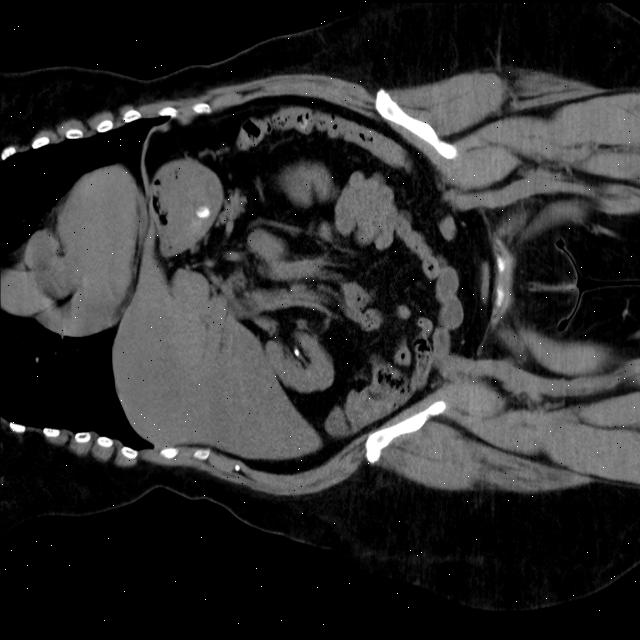kidneystone: (196, 205, 210, 218)
